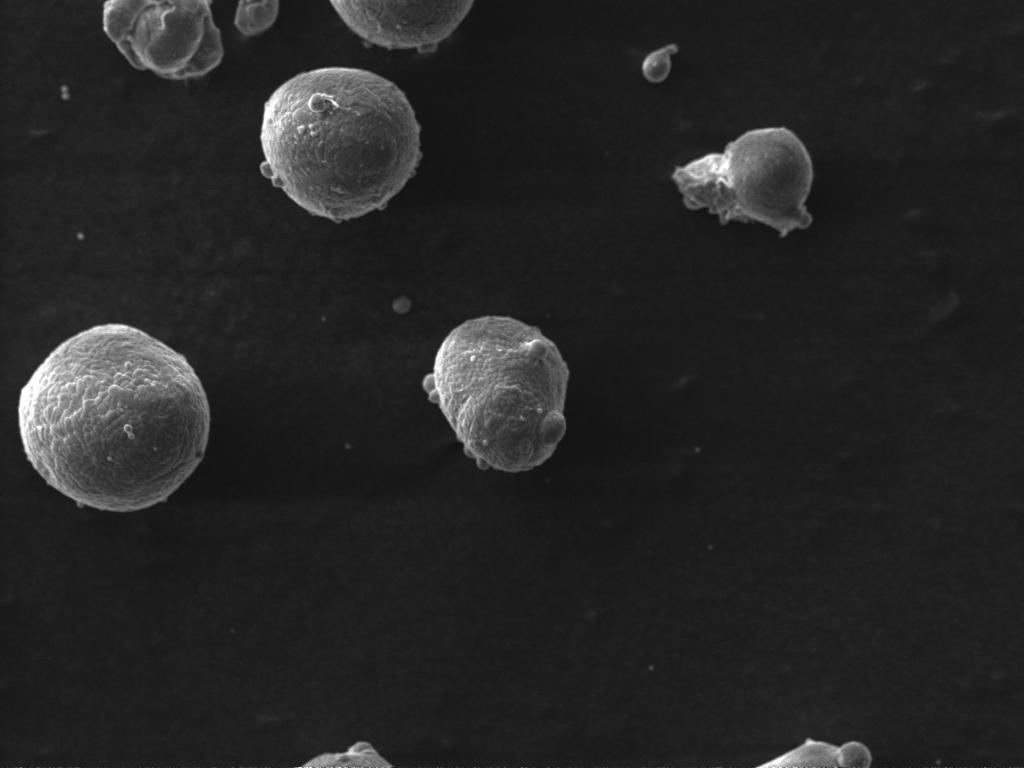Powder: (18, 324, 210, 511), (262, 68, 420, 221), (422, 316, 568, 471), (674, 128, 812, 235), (104, 0, 222, 80), (330, 0, 473, 53), (758, 738, 872, 767), (304, 742, 392, 768), (234, 0, 280, 36), (642, 44, 678, 83)
